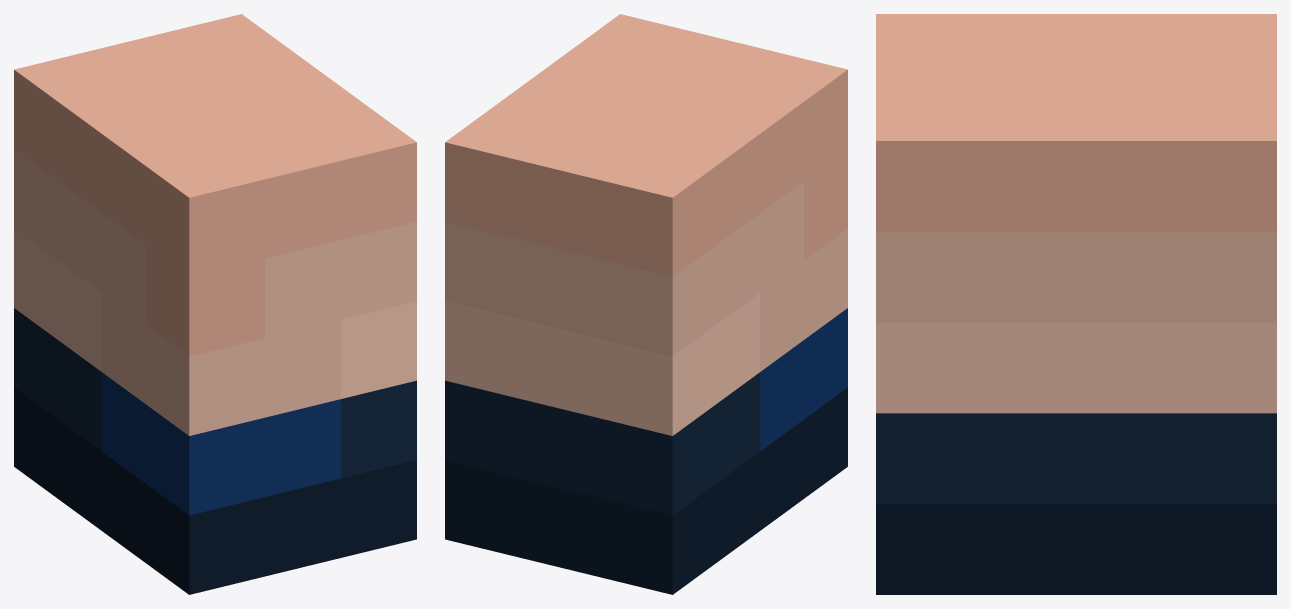
File: Braç0-Esquerd0.obj
3 renders of one model, left to right at view 1: azimuth 30°, elevation 25°; view 2: azimuth 150°, elevation 25°; view 3: azimuth 270°, elevation 25°, orthographic. The views are drawn at different scales.
Size of the model in its own units: 0.3 by 0.5 by 0.4.
Materials: 1 (1 with a texture image).
